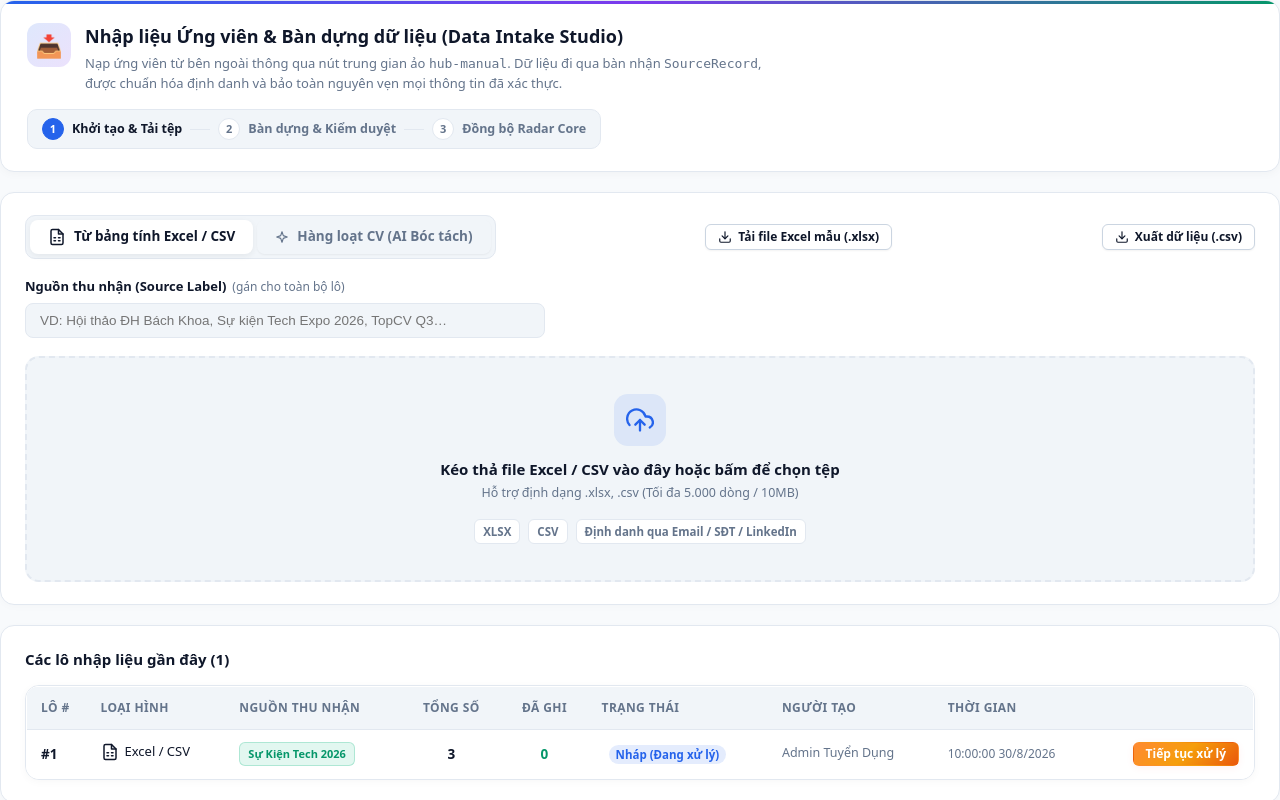
Test: DataIntake Component (Tab Nhập liệu) › mở Drawer xem chi tiết dòng và thông tin trùng khớp với Person360
Step 1. Click the button "Tiếp tục xử lý" → click(1186, 754), box [1132,742,1239,766]
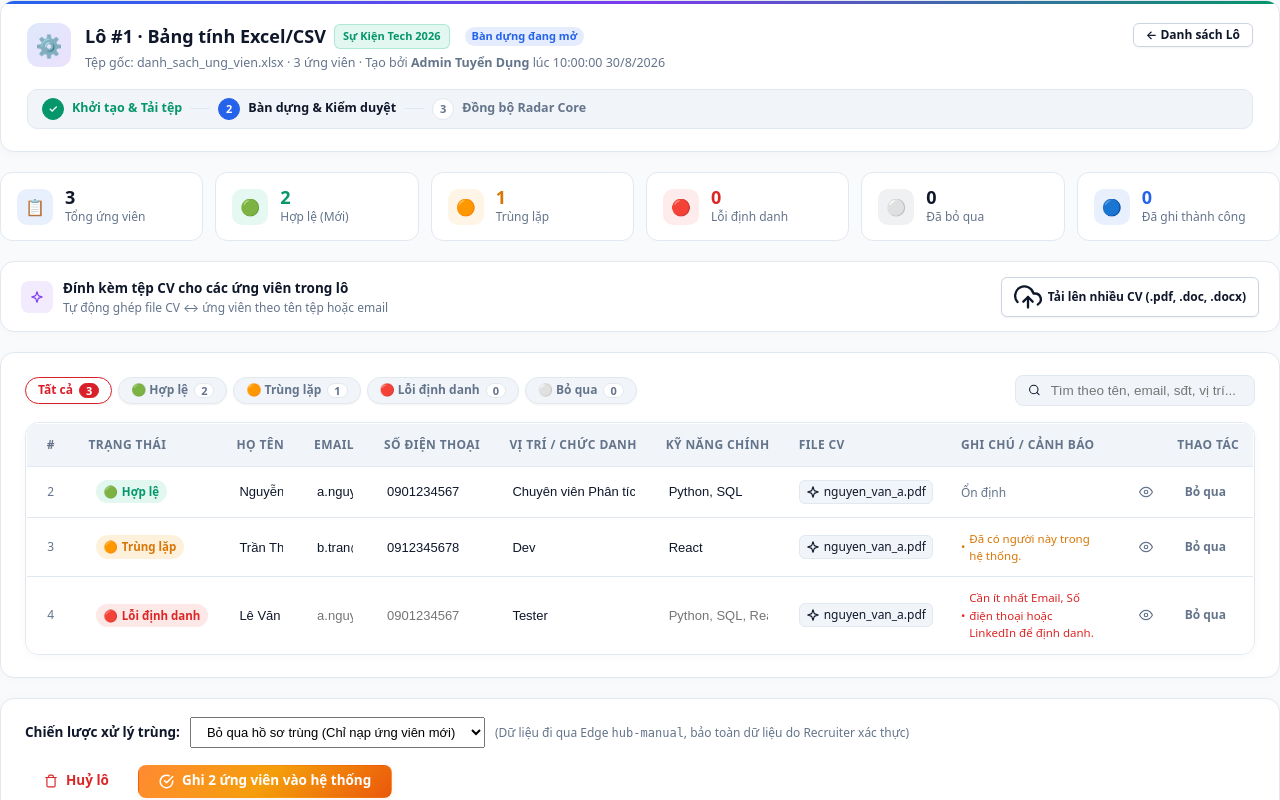
Result: the heading "Lô #1 · Bảng tính Excel/CSV" is shown at [85,23,326,50]
Note: Bấm nút xem chi tiết ở dòng 2 (Trần Thị B - Trùng lặp)
Step 2. Click the button titled "Xem chi tiết dòng" next to "Đã có người này trong hệ thống." → click(1146, 547), box [1126,534,1166,560]
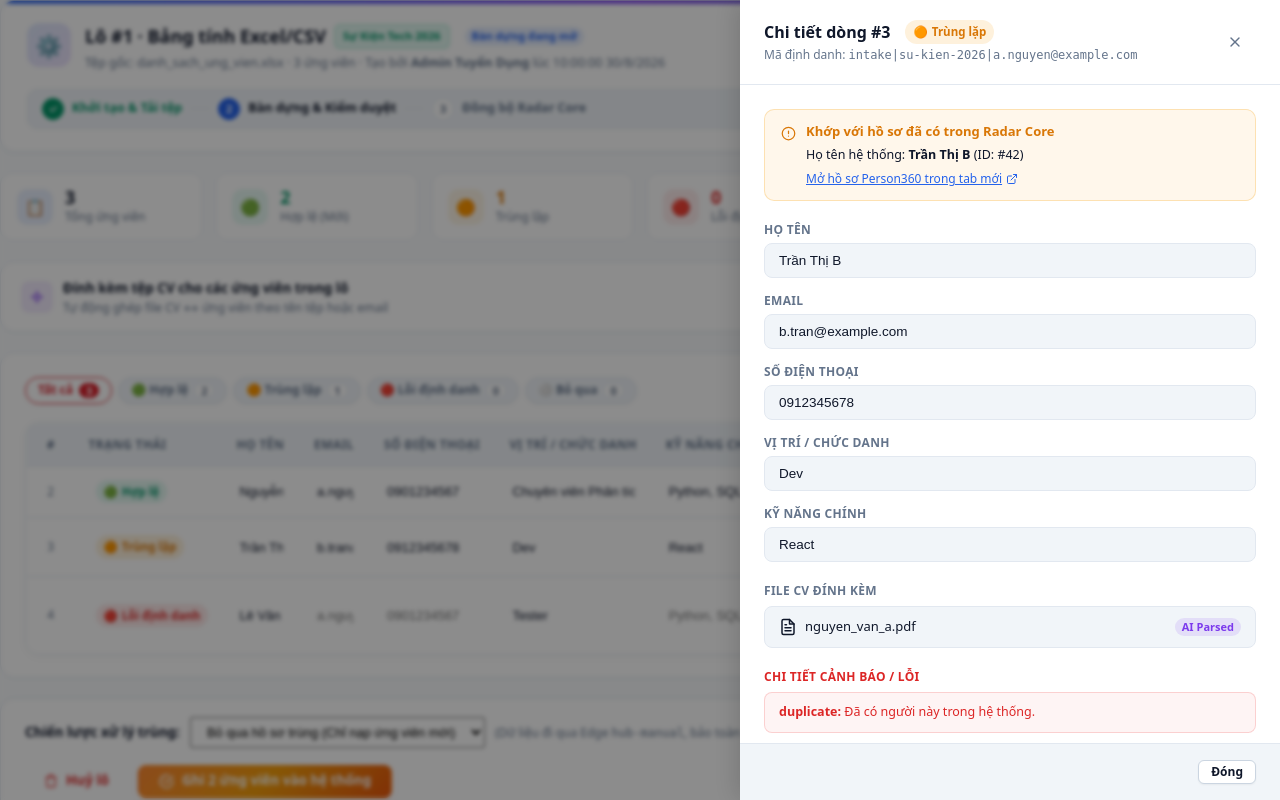
Result: the heading "Chi tiết dòng #3" is shown at [764,20,890,44]
Result: the text "Khớp với hồ sơ đã có trong Radar Core" is shown at [806,122,1054,142]
Result: the text "Mở hồ sơ Person360 trong tab mới" is shown at [806,170,1002,188]
Note: Đóng drawer
Step 3. Click the button "Đóng" → click(1227, 772), box [1198,760,1256,784]
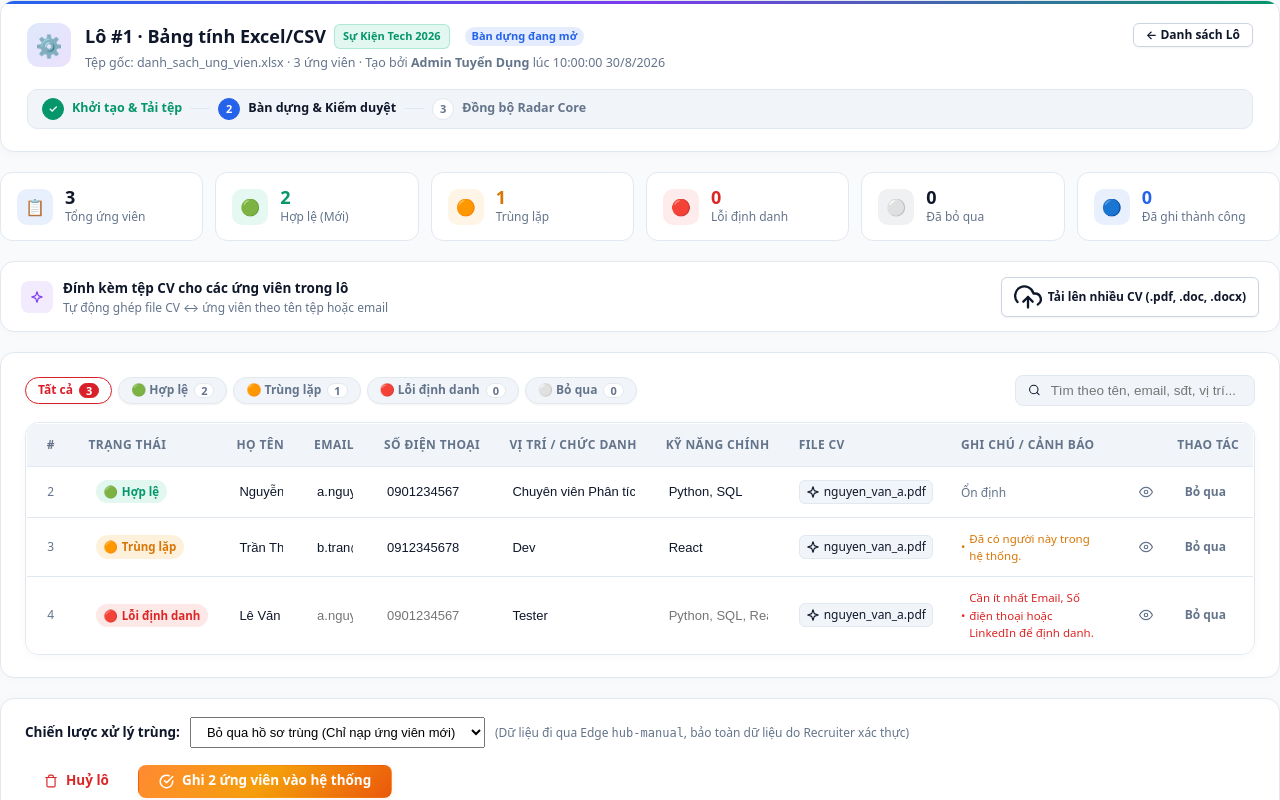
Result: the heading "Chi tiết dòng #3" is gone
